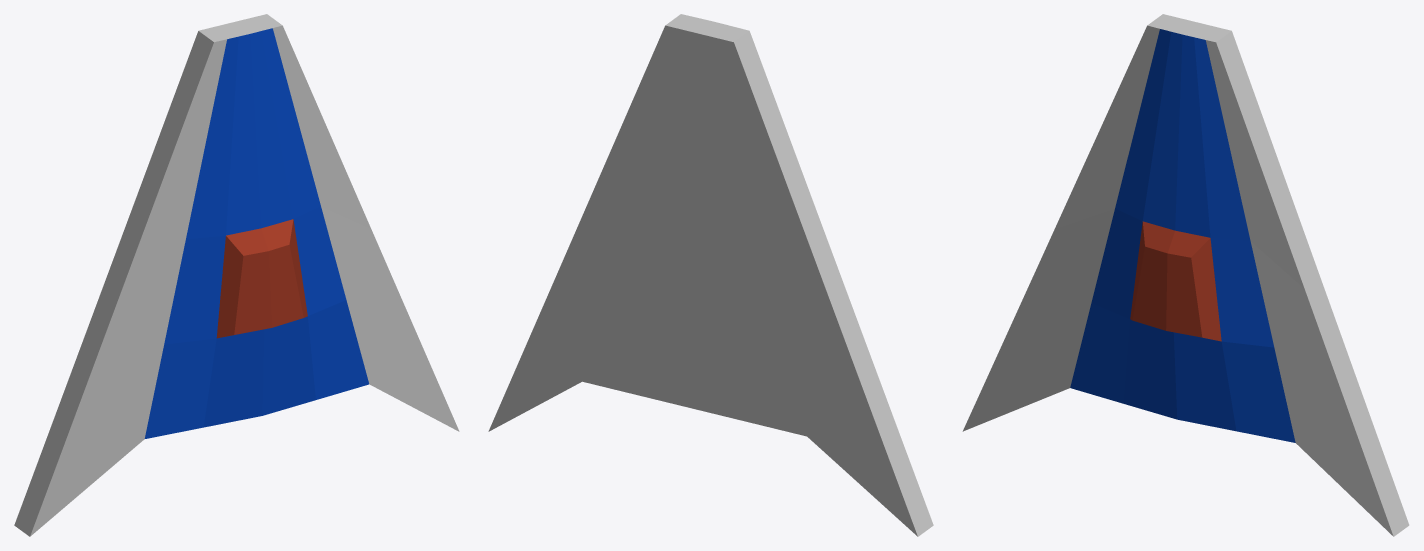
Rendered from player.obj.
The picture shows the model from 3 angles, left to right: view 1: azimuth 30°, elevation 25°; view 2: azimuth 150°, elevation 25°; view 3: azimuth 330°, elevation 25°; orthographic projection.
Parts seen in each view (by area): view 1: Cube; view 2: Cube; view 3: Cube.
Part boxes in pixels (x1,y1,x2,y2): Cube: (14,14,459,536); Cube: (488,14,933,536); Cube: (962,14,1409,536).
Size of the model in its own units: 0.7145 by 0.7145 by 0.1016.
